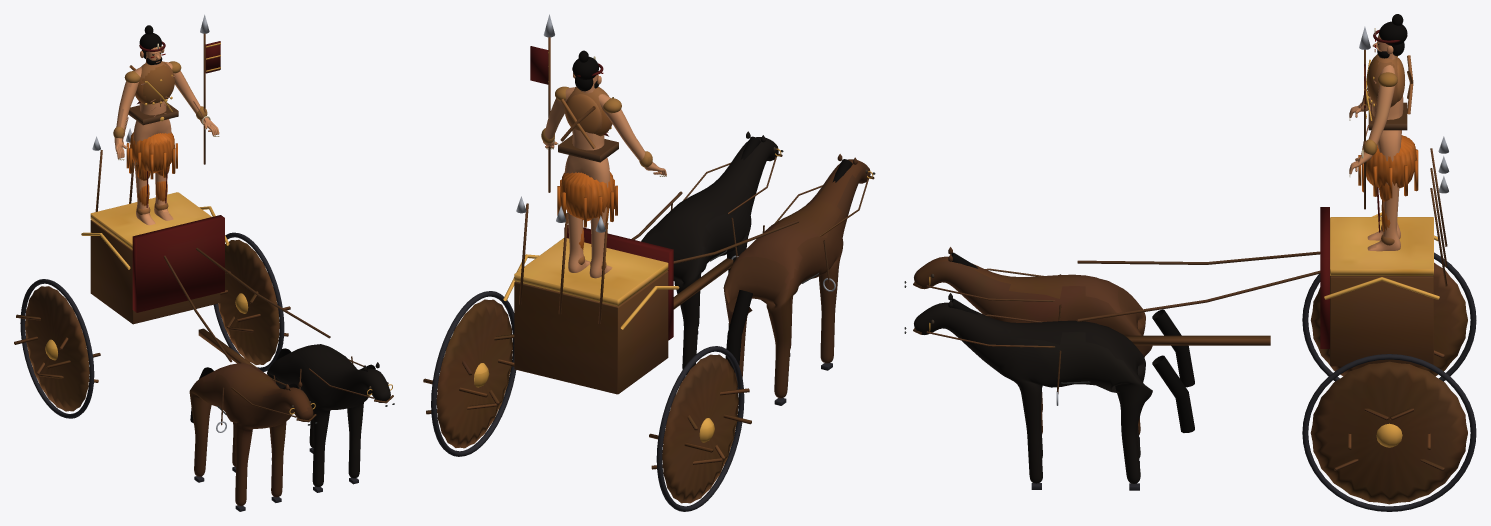
The model's file is kaurava-war-chariot.glb.
The picture shows the model from 3 angles, left to right: view 1: azimuth 30°, elevation 25°; view 2: azimuth 150°, elevation 25°; view 3: azimuth 270°, elevation 25°; orthographic projection. The views are drawn at different scales.
Parts seen in each view (by area): view 1: kaurava-war-chariot-mesh; view 2: kaurava-war-chariot-mesh; view 3: kaurava-war-chariot-mesh.
Boxes of the visible parts, <box> form: kaurava-war-chariot-mesh: <box>14,14,394,511</box>; kaurava-war-chariot-mesh: <box>423,14,875,511</box>; kaurava-war-chariot-mesh: <box>904,14,1476,511</box>.
Size of the model in its own units: 1.38 by 2.03 by 2.31.
19 materials, 18 textured.
